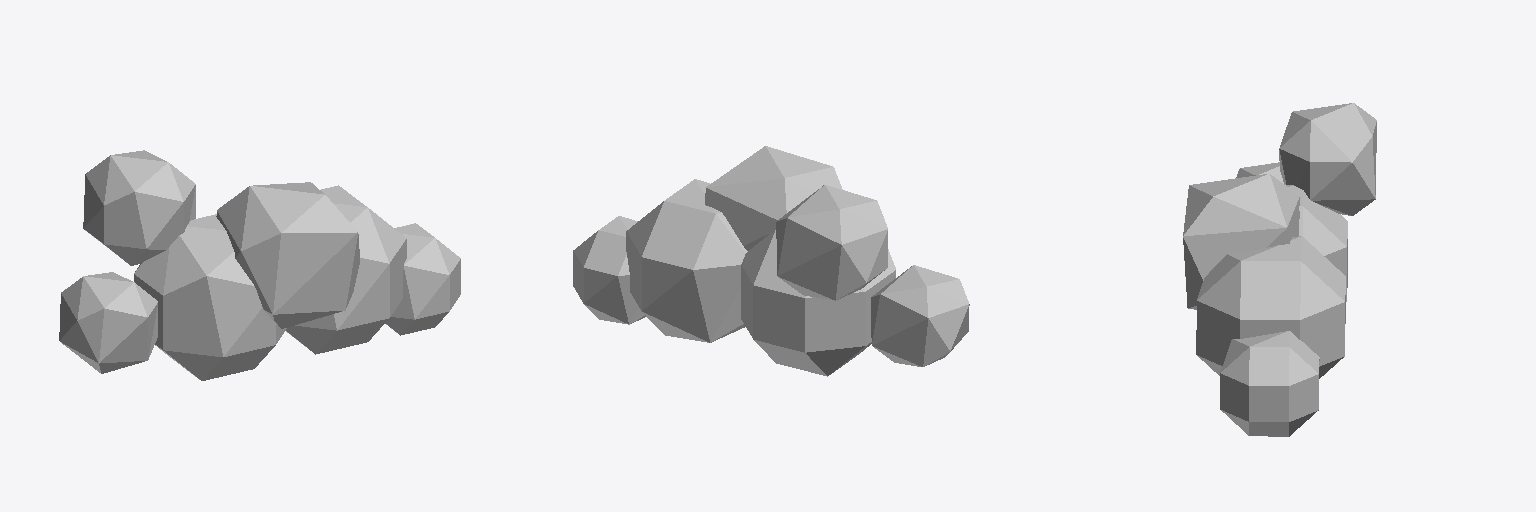
The model's file is Cloud9.obj.
The picture shows the model from 3 angles: view 1: azimuth 30°, elevation 25°; view 2: azimuth 150°, elevation 25°; view 3: azimuth 270°, elevation 25°; orthographic projection.
Visible parts, largest first — view 1: Cloud9_Object_66_Object_31.001; view 2: Cloud9_Object_66_Object_31.001; view 3: Cloud9_Object_66_Object_31.001.
Boxes of the visible parts, x1,y1,x2,y2 form: Cloud9_Object_66_Object_31.001: [59, 150, 460, 380]; Cloud9_Object_66_Object_31.001: [573, 146, 969, 376]; Cloud9_Object_66_Object_31.001: [1183, 103, 1376, 436].
Bounding box in the file's own units: 1.67 × 0.8444 × 0.7399.